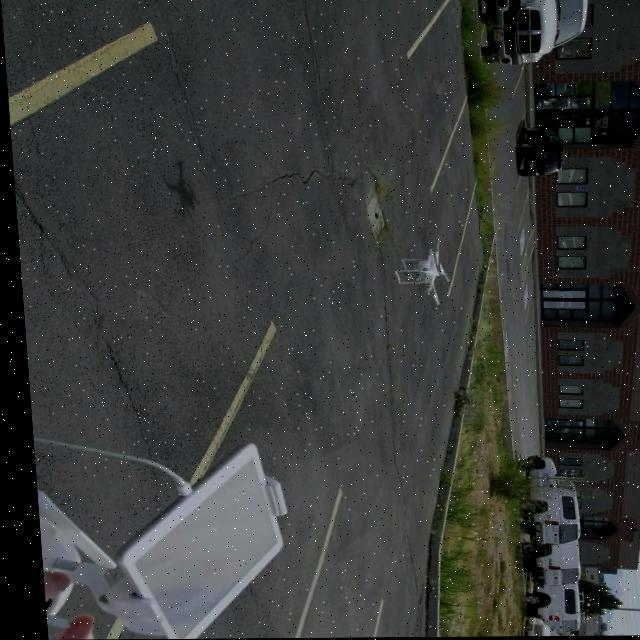drone: (386, 249, 449, 302)
